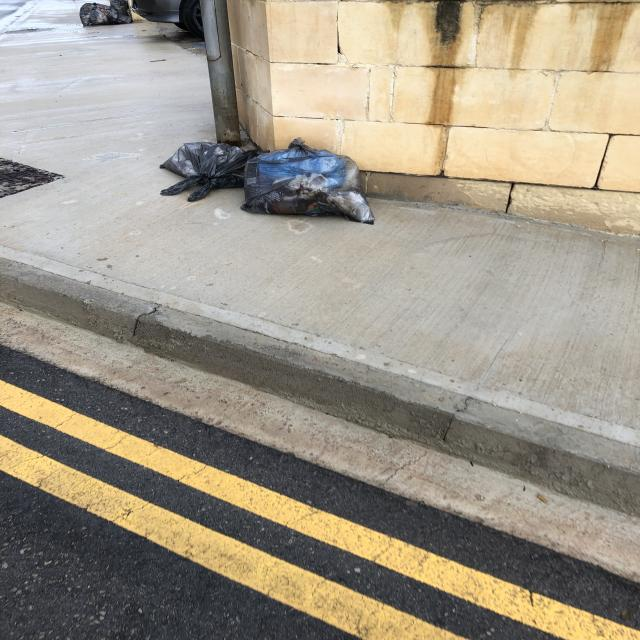Mixed Waste -Black Bag-: (242, 139, 377, 225), (159, 140, 265, 204), (81, 4, 119, 28), (110, 1, 136, 25)
